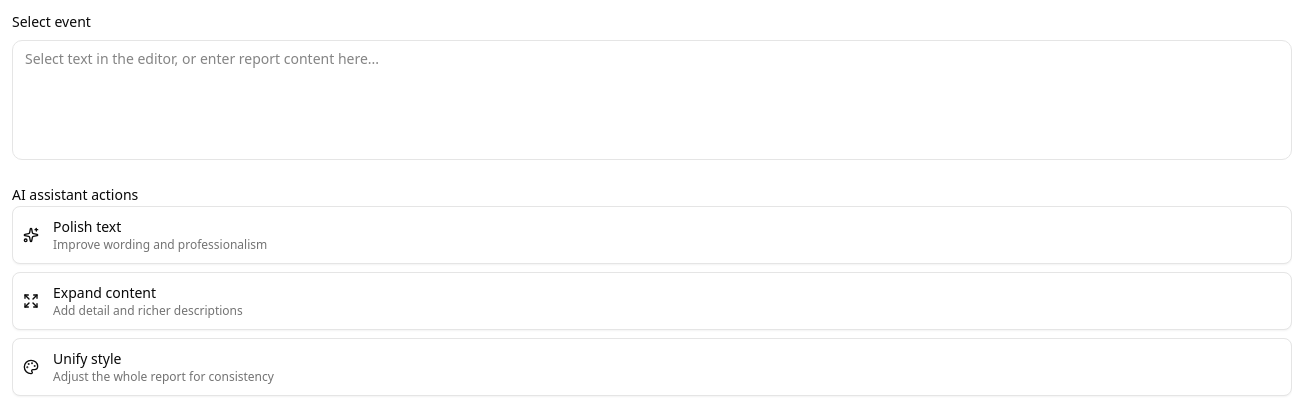
Scenario: AIAssistantPanel › Loading State › should disable all buttons while operation is in progress
This screenshot has width=1304, height=413.
Type "Test event" into the text box with placeholder "Select text in the editor, or enter report content here..." at (652, 100), box [12,40,1292,160]
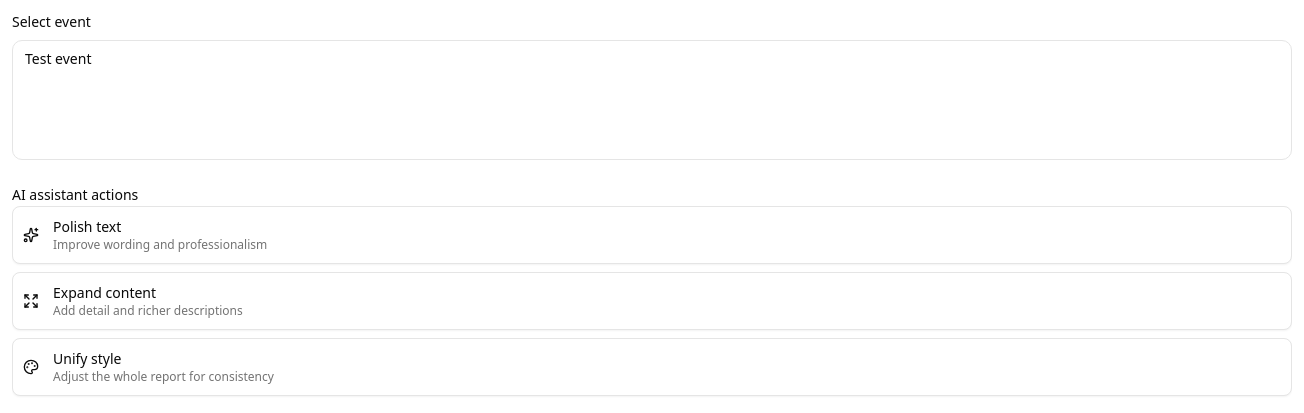
Click the button "Polish text Improve wording and professionalism" at (87, 226), box [12,206,1292,264]
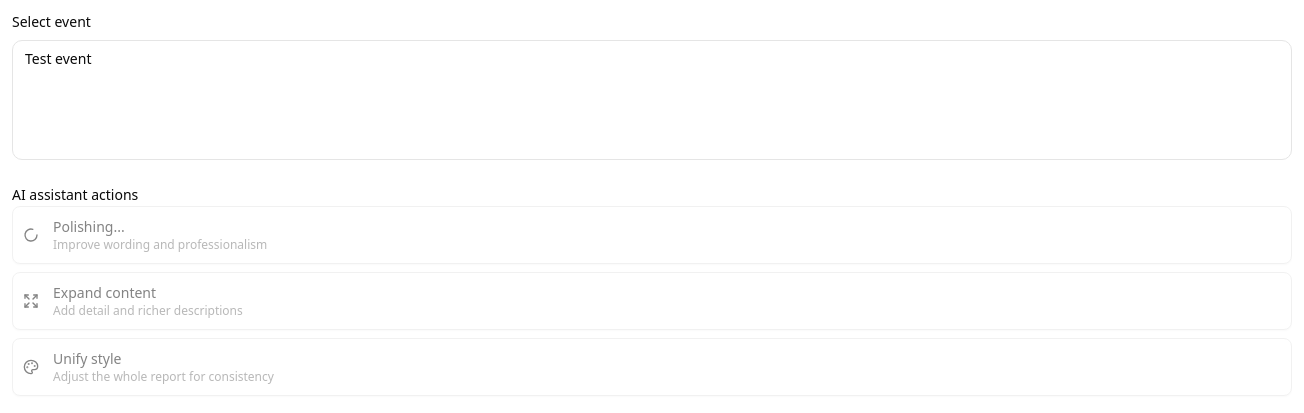
Expected: the button named "Polish text" is disabled, [12,206,1292,264]
Expected: the button "Expand content Add detail and richer descriptions" is disabled, [12,272,1292,330]
Expected: the button "Unify style Adjust the whole report for consistency" is disabled, [12,338,1292,396]
